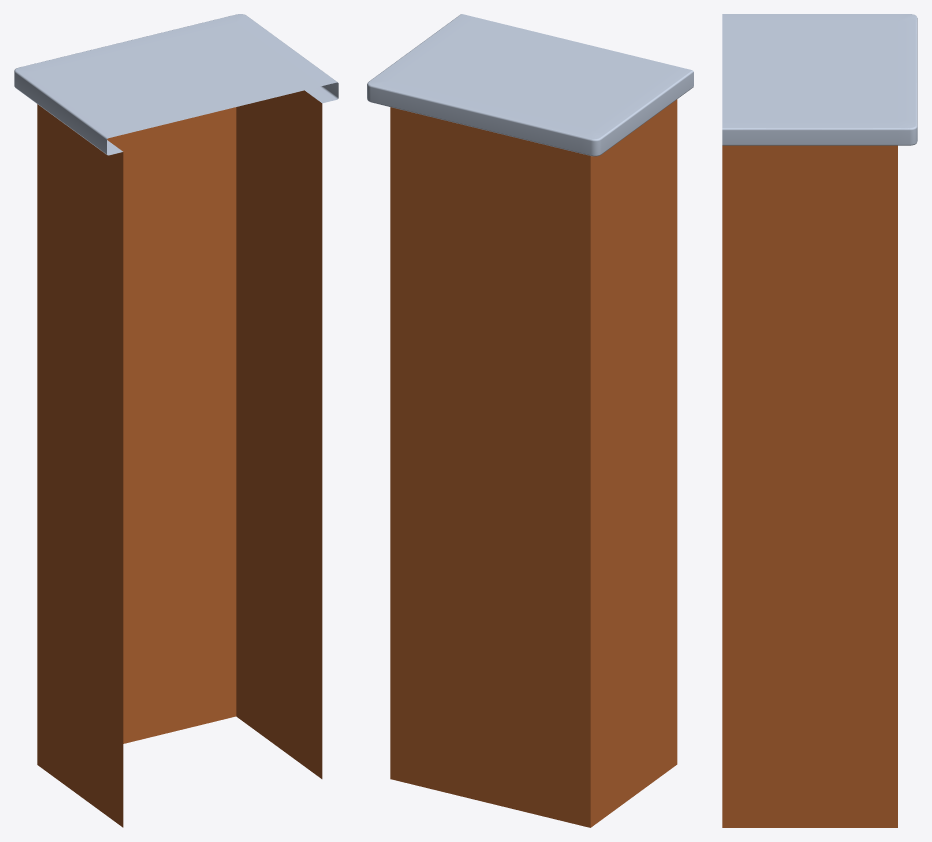
File: Table_counter_end.fbx
The picture shows the model from 3 angles, left to right: view 1: azimuth 30°, elevation 25°; view 2: azimuth 150°, elevation 25°; view 3: azimuth 270°, elevation 25°; orthographic projection. The views are drawn at different scales.
Visible parts, largest first — view 1: Table_counter_end_oject; view 2: Table_counter_end_oject; view 3: Table_counter_end_oject.
Part boxes in pixels (x1,y1,x2,y2): Table_counter_end_oject: (14, 14, 338, 827); Table_counter_end_oject: (367, 14, 693, 827); Table_counter_end_oject: (722, 14, 917, 827).
Size of what is drawn, in the model's own units: 1400 by 4000 by 1000.
